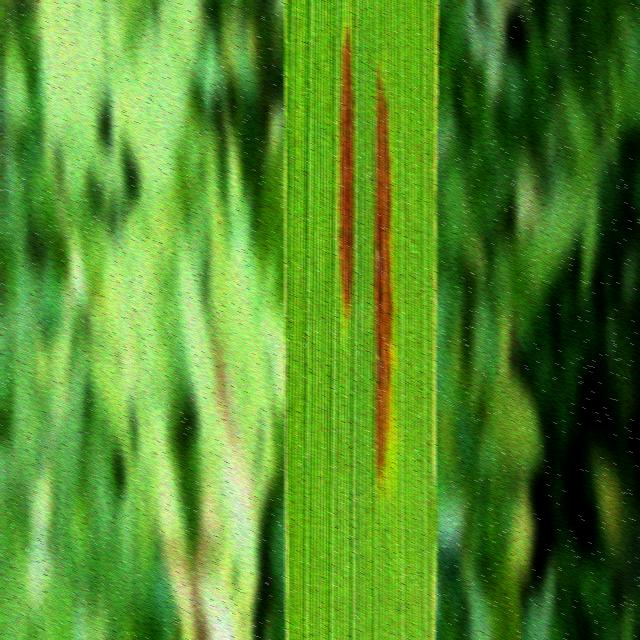NBS: (373, 75, 392, 477), (338, 29, 353, 317)
